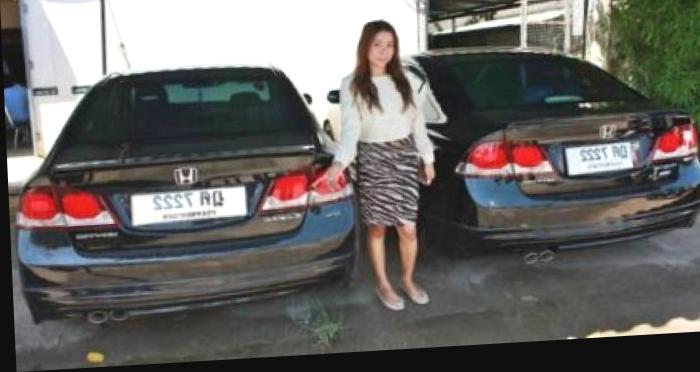License_Plate: (125, 180, 252, 234), (557, 137, 639, 181)
